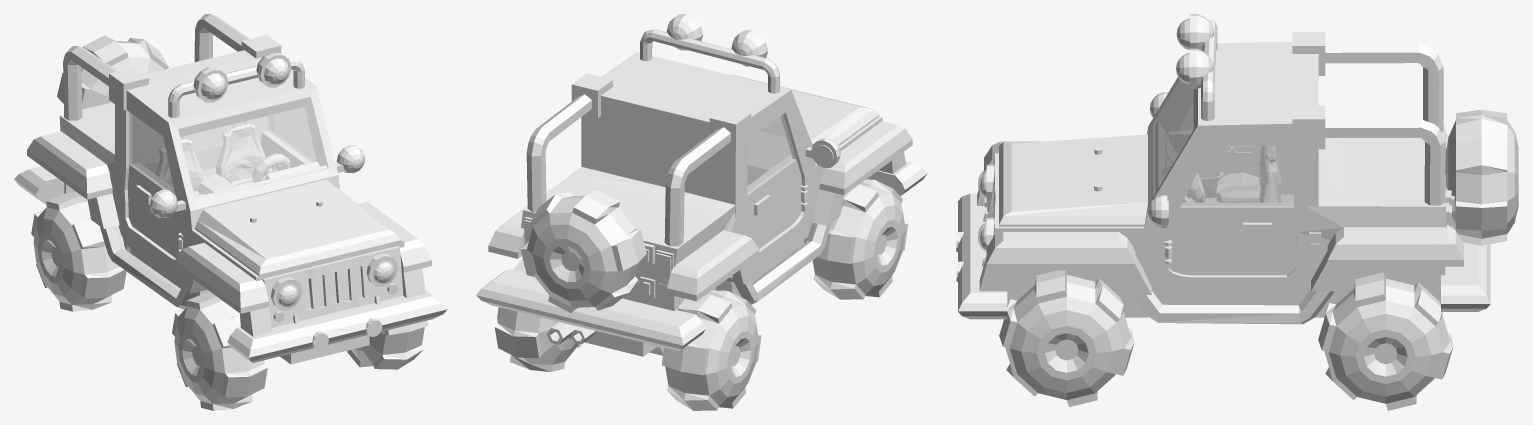
File: model-triangulated.obj
The picture shows the model from 3 angles, left to right: view 1: azimuth 30°, elevation 25°; view 2: azimuth 150°, elevation 25°; view 3: azimuth 270°, elevation 25°; orthographic projection. The views are drawn at different scales.
Visible parts, largest first — view 1: mesh1085046267; view 2: mesh1085046267; view 3: mesh1085046267.
Part boxes in pixels (left/top/right/bottom): mesh1085046267: left=14, top=14, right=447, bottom=410; mesh1085046267: left=476, top=14, right=927, bottom=410; mesh1085046267: left=956, top=14, right=1518, bottom=410.
Size of the model in its own units: 300 by 380 by 594.
12 materials, 12 textured.
